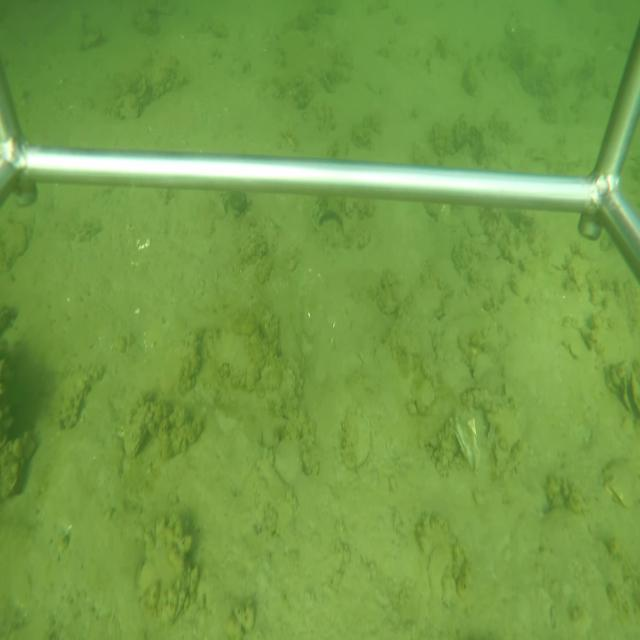Oyster-Closed: (448, 412, 480, 472), (121, 410, 153, 460)
Oyster-Indeterminate: (137, 542, 194, 623)
Oyster-Open: (619, 372, 639, 425)
